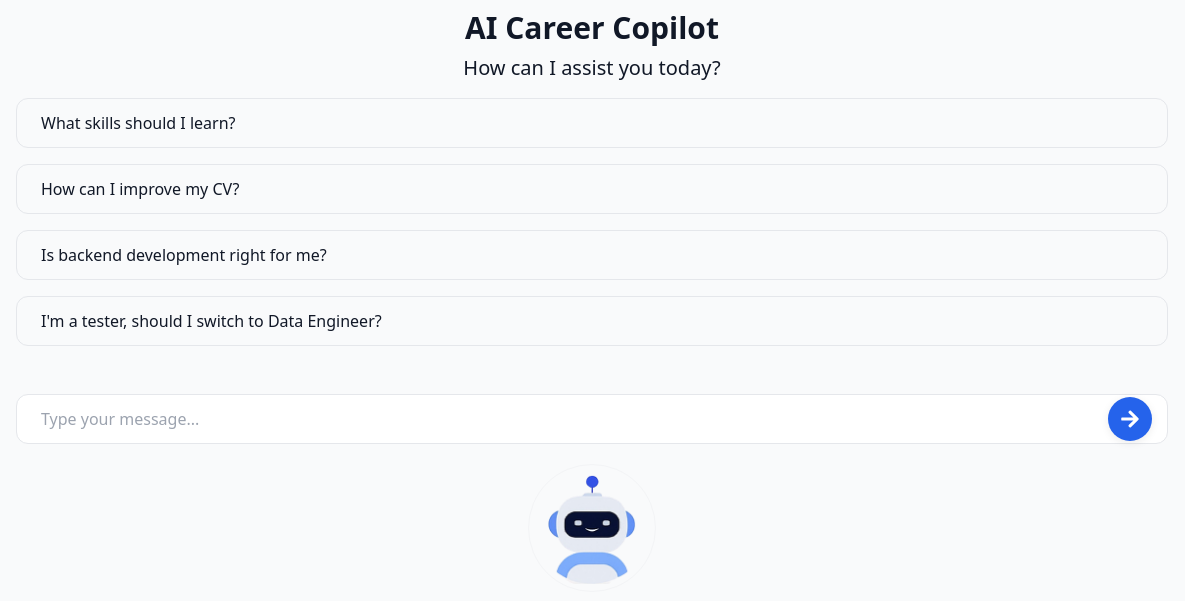
Scenario: Assistant component › allows sending a custom message and receives mock reply
This screenshot has width=1185, height=601.
Type "How to improve my CV?" into the field with placeholder "Type your message..." at [592, 419], box [16, 394, 1168, 444]
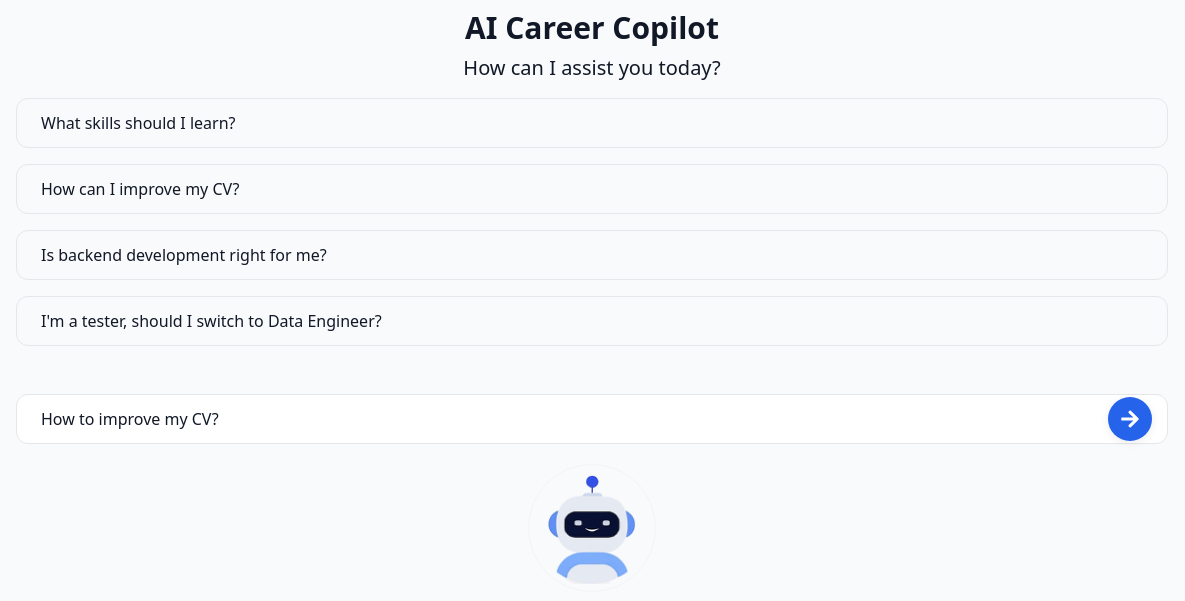
Press Enter in the field with placeholder "Type your message...", box [16, 394, 1168, 444]
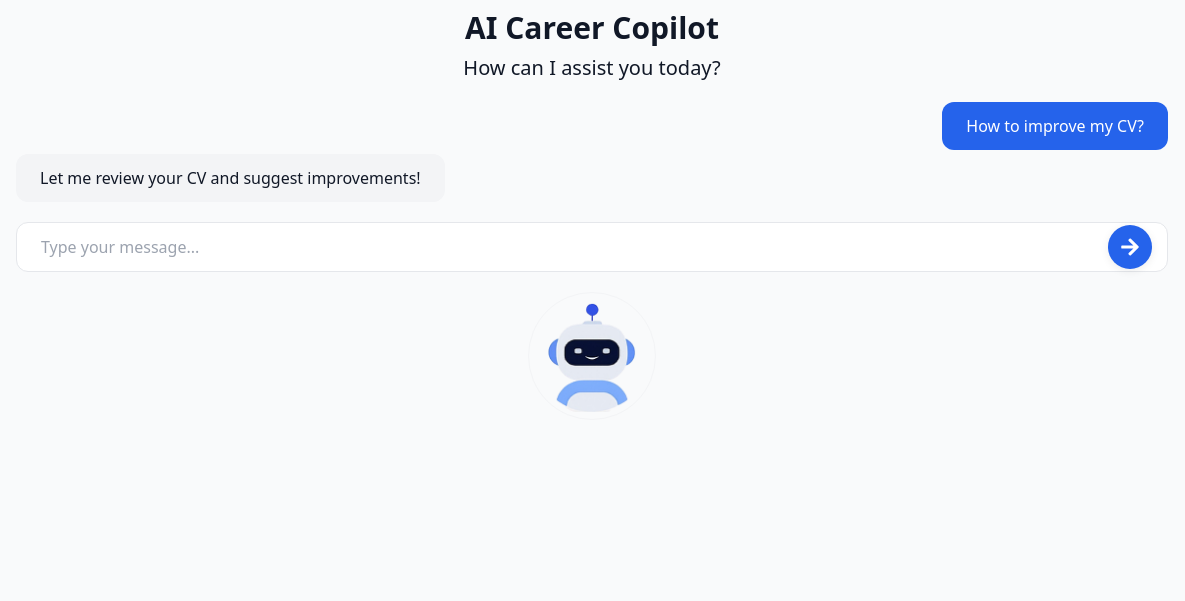
Expected: the text "Let me review your CV and suggest improvements!" is shown, [16, 154, 445, 202]
